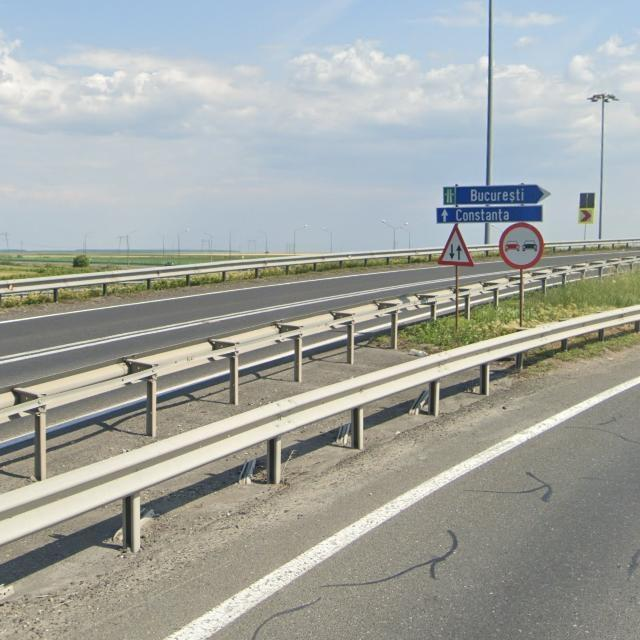forb_overtake: (499, 222, 544, 269)
